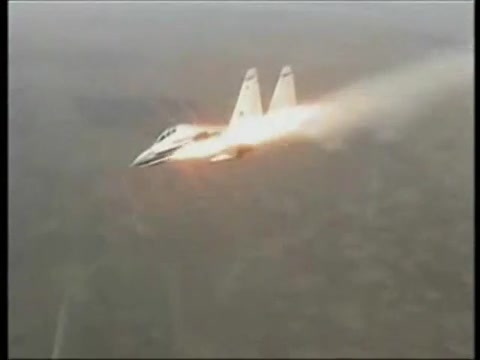aeroplane: (128, 65, 308, 169)
